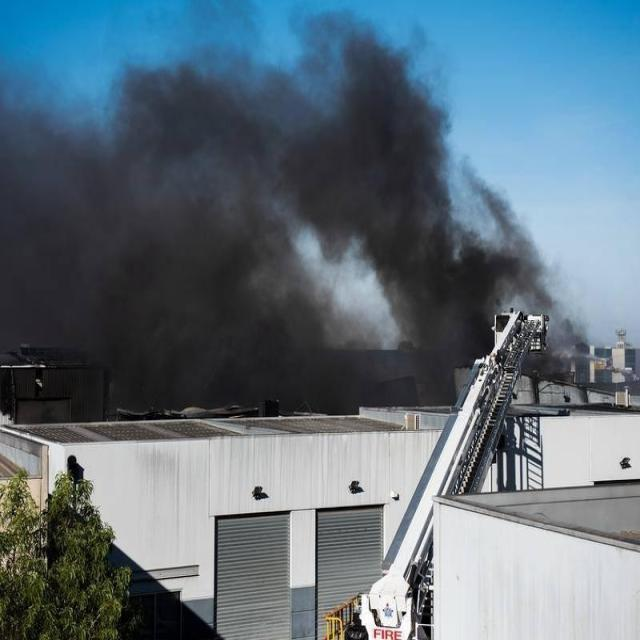Smoke: (1, 1, 592, 422)
